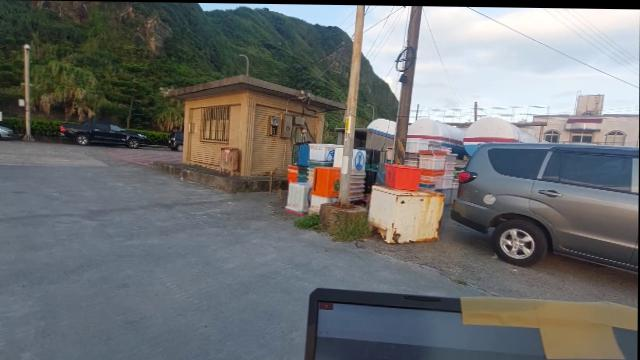pollute: (366, 184, 445, 243), (308, 143, 344, 186), (310, 164, 342, 212), (348, 147, 367, 200), (386, 163, 421, 190), (286, 182, 312, 213), (287, 166, 298, 181)
